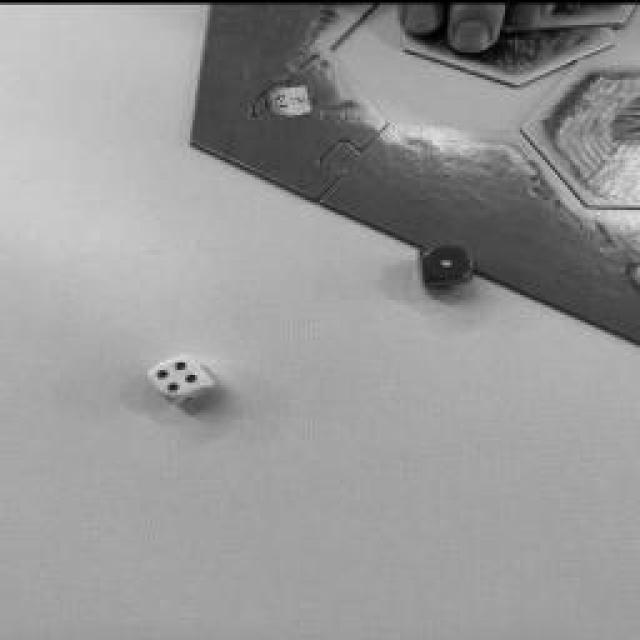dice_1: (420, 241, 470, 279)
dice_4: (150, 355, 205, 395)
